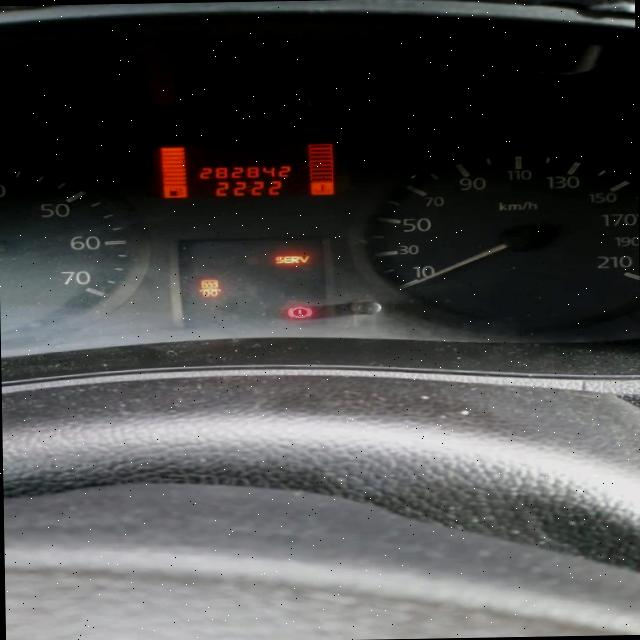odometer: (145, 138, 342, 202)
